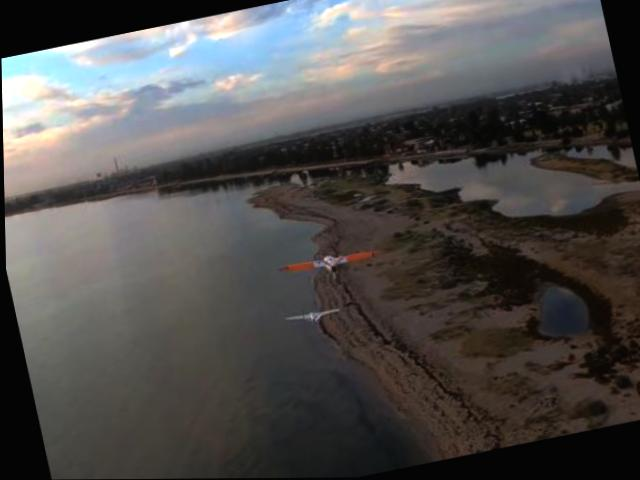uav: (274, 244, 378, 287), (280, 299, 345, 332)
